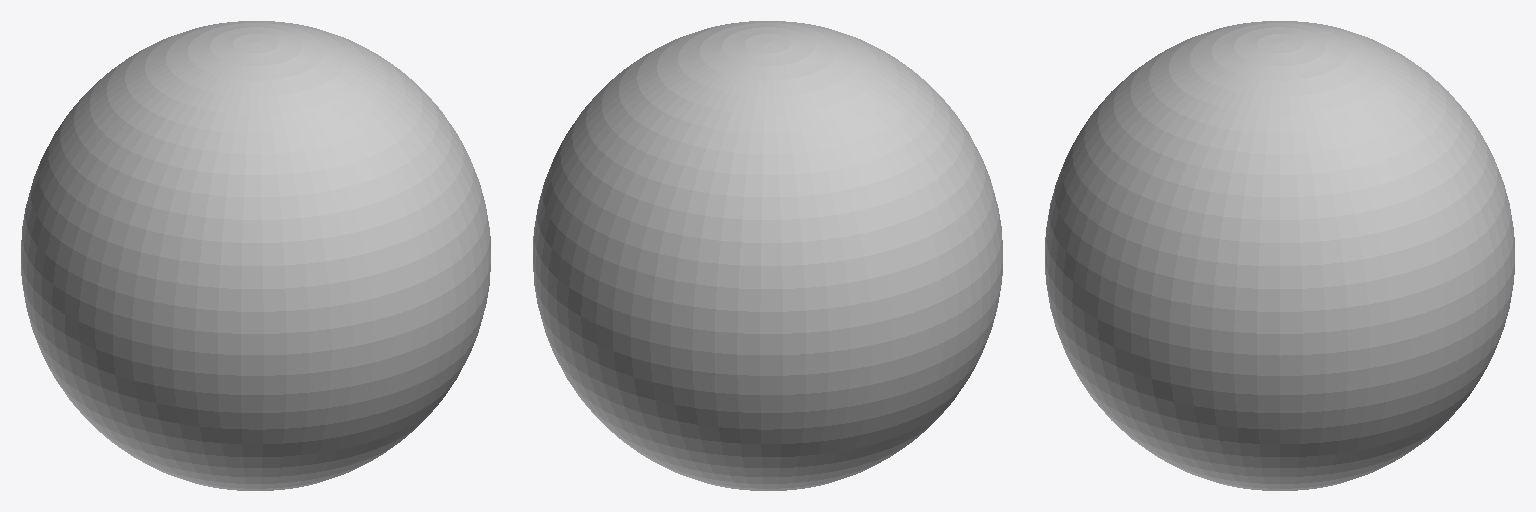
Rendered from sun.obj.
The picture shows the model from 3 angles: view 1: azimuth 30°, elevation 25°; view 2: azimuth 150°, elevation 25°; view 3: azimuth 270°, elevation 25°; orthographic projection.
Visible parts, largest first — view 1: Esfera_UV; view 2: Esfera_UV; view 3: Esfera_UV.
Boxes of the visible parts, box(x1,y1,x2,y2) form: Esfera_UV: box(21, 21, 490, 490); Esfera_UV: box(533, 21, 1002, 490); Esfera_UV: box(1045, 21, 1514, 490).
Bounding box in the file's own units: 40 × 40 × 40.